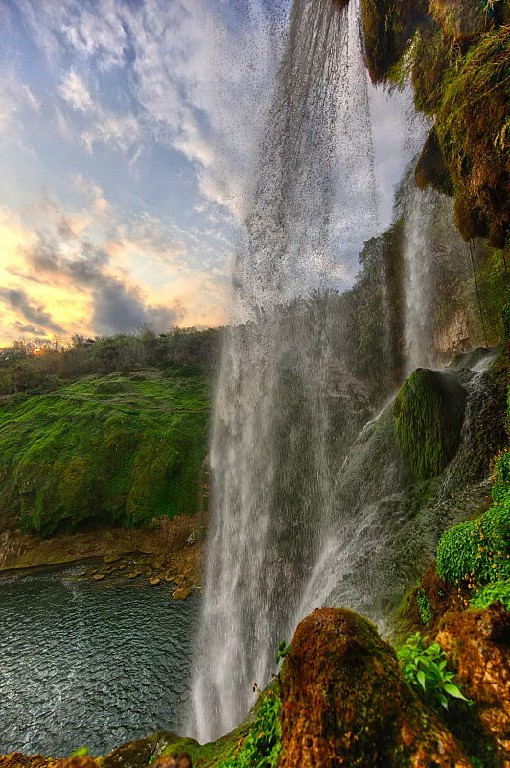Huangguoshu: (186, 1, 406, 744)
